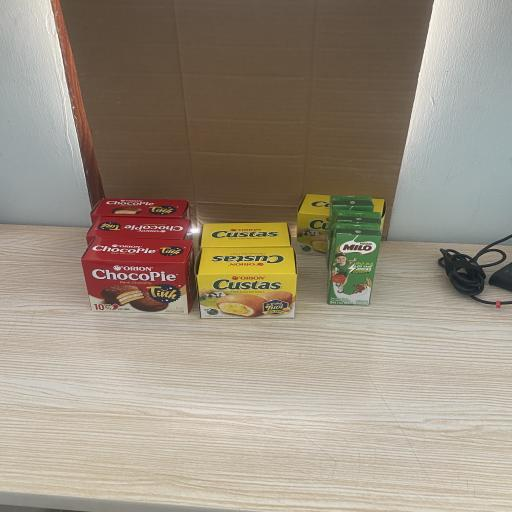chocopie: (82, 238, 194, 316), (86, 216, 192, 246), (90, 197, 189, 220)
custas: (196, 246, 297, 318), (296, 194, 388, 257), (198, 222, 292, 248)
milo: (326, 224, 382, 306), (330, 210, 382, 239), (329, 196, 375, 214)
